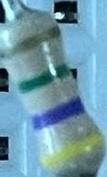Blue: (30, 97, 86, 131)
Green: (16, 63, 71, 96)
Side-Silver: (1, 25, 62, 64)
Yellow: (41, 133, 105, 166)
